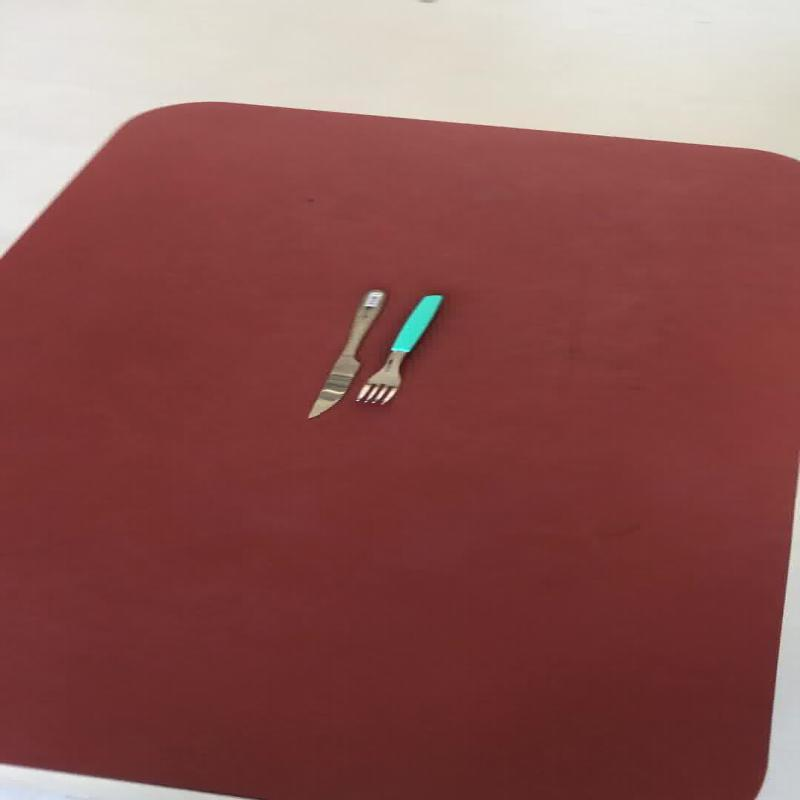fork: (304, 288, 386, 419), (353, 294, 443, 404)
knife: (304, 288, 386, 418)
